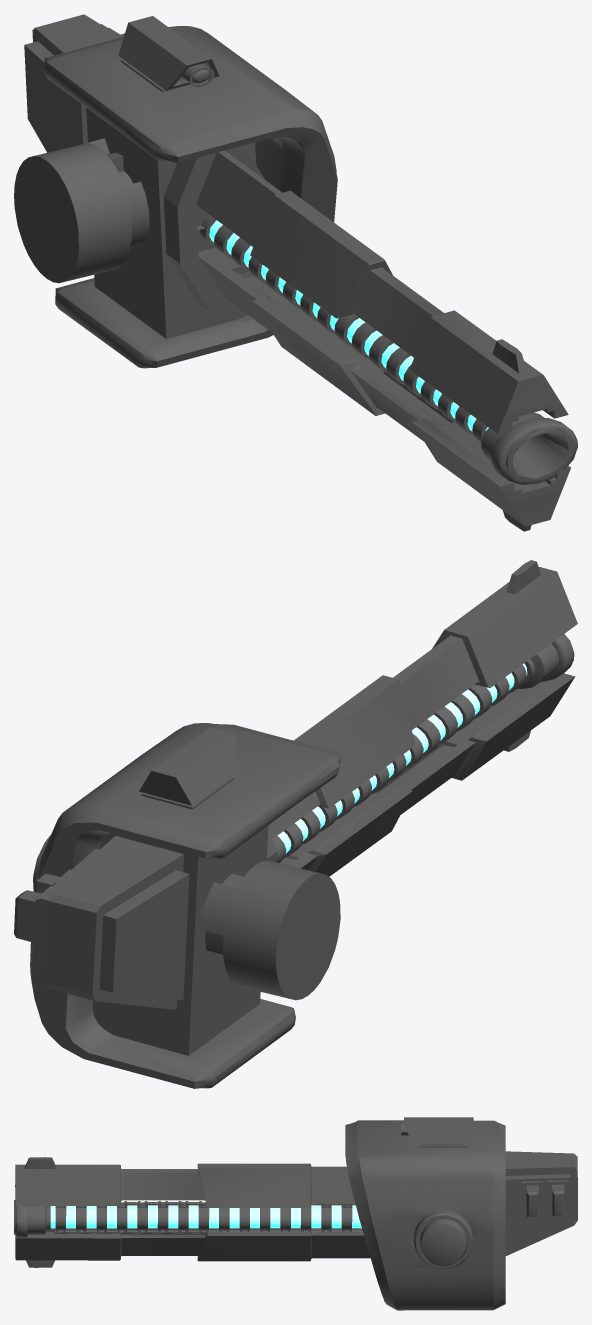
File: railgun.fbx
3 renders of one model, top to bottom at view 1: azimuth 30°, elevation 25°; view 2: azimuth 150°, elevation 25°; view 3: azimuth 270°, elevation 25°, orthographic. The views are drawn at different scales.
Visible parts, largest first — view 1: Cylinder.001; view 2: Cylinder.001; view 3: Cylinder.001.
Boxes of the visible parts, <box> form: Cylinder.001: <box>14,14,577,531</box>; Cylinder.001: <box>14,560,577,1088</box>; Cylinder.001: <box>14,1117,577,1310</box>.
Bounding box in the file's own units: 0.7397 × 0.7804 × 2.33.
